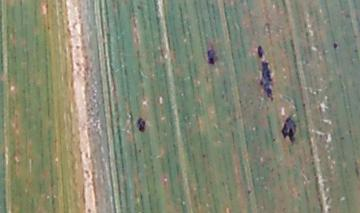tarspot: (257, 60, 275, 102), (279, 114, 297, 148), (204, 46, 217, 67), (134, 115, 147, 134), (256, 44, 265, 59), (331, 41, 339, 51), (337, 135, 346, 142), (245, 188, 253, 195), (301, 101, 307, 109), (201, 153, 207, 159)
